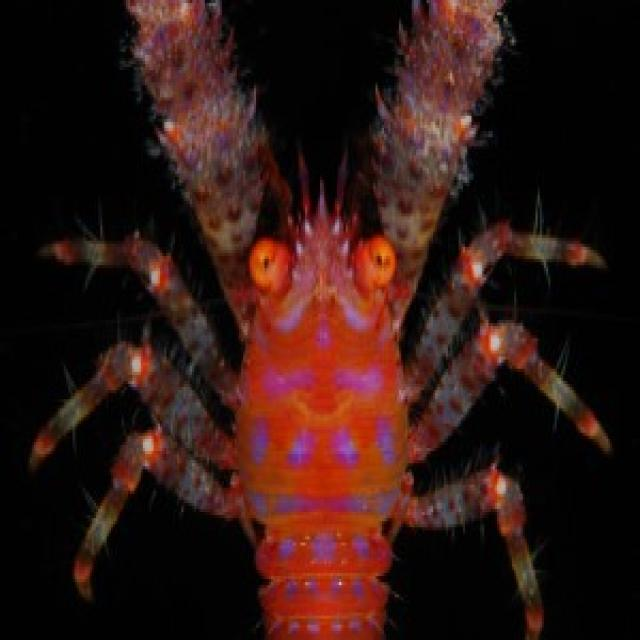lobsters: (20, 0, 626, 640)
